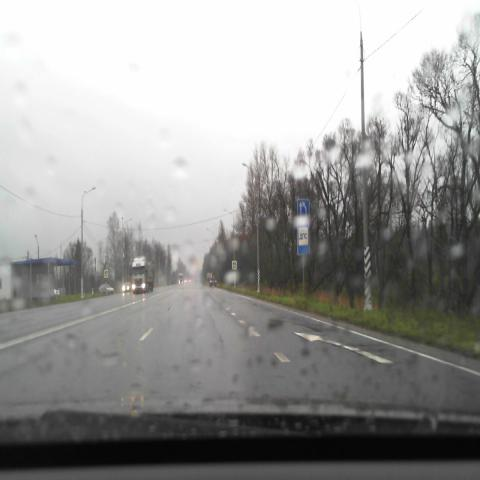5_15_5: (297, 198, 309, 220)
7_12: (297, 222, 309, 255)
